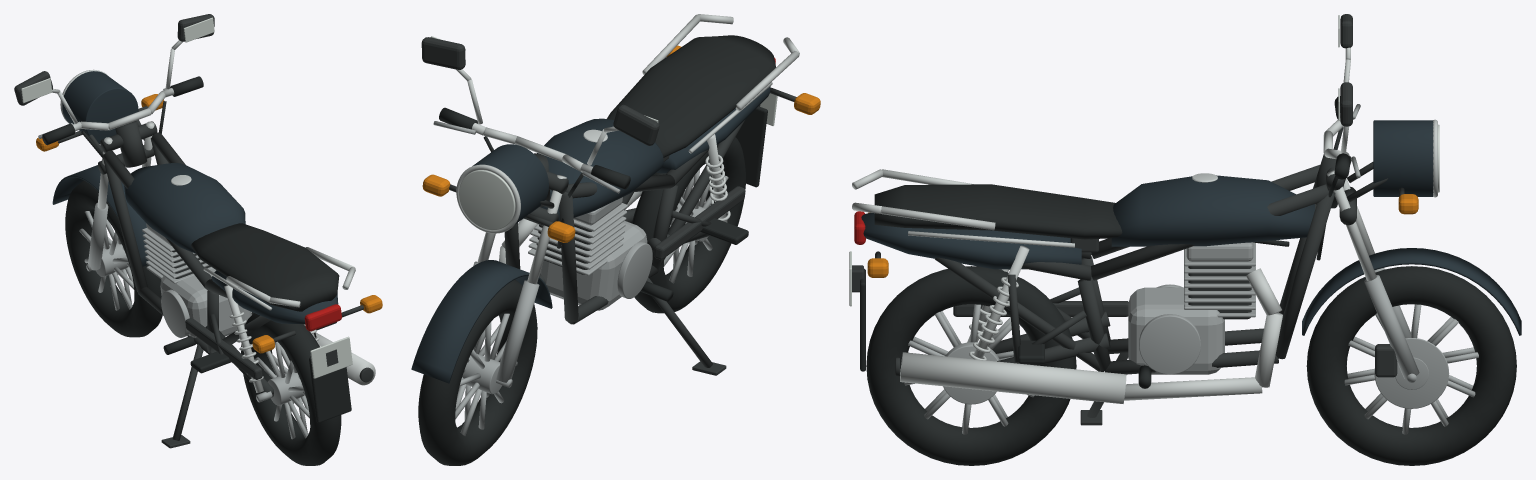
Rendered from central-avenue-commuter-motorcycle.glb.
The picture shows the model from 3 angles, left to right: view 1: azimuth 30°, elevation 25°; view 2: azimuth 150°, elevation 25°; view 3: azimuth 270°, elevation 25°; orthographic projection. The views are drawn at different scales.
Parts seen in each view (by area): view 1: Motorcycle tyres grips and saddle, Motorcycle dark blue black enamel, Motorcycle black frame steel, Motorcycle engine and wheel alloy, Motorcycle fork and bright hardware, Motorcycle headlamp and mirrors, Motorcycle amber indicator lens, Motorcycle red tail lens; view 2: Motorcycle tyres grips and saddle, Motorcycle dark blue black enamel, Motorcycle engine and wheel alloy, Motorcycle black frame steel, Motorcycle fork and bright hardware, Motorcycle headlamp and mirrors, Motorcycle amber indicator lens; view 3: Motorcycle tyres grips and saddle, Motorcycle dark blue black enamel, Motorcycle black frame steel, Motorcycle engine and wheel alloy, Motorcycle fork and bright hardware, Motorcycle amber indicator lens.
Part boxes in pixels (x1=…): Motorcycle tyres grips and saddle: x1=42, y1=76, x2=351, y2=465; Motorcycle dark blue black enamel: x1=52, y1=71, x2=338, y2=323; Motorcycle black frame steel: x1=14, y1=14, x2=373, y2=448; Motorcycle engine and wheel alloy: x1=38, y1=78, x2=309, y2=439; Motorcycle fork and bright hardware: x1=52, y1=40, x2=375, y2=392; Motorcycle headlamp and mirrors: x1=21, y1=17, x2=352, y2=378; Motorcycle amber indicator lens: x1=36, y1=94, x2=382, y2=353; Motorcycle red tail lens: x1=304, y1=304, x2=341, y2=331; Motorcycle tyres grips and saddle: x1=418, y1=35, x2=775, y2=465; Motorcycle dark blue black enamel: x1=411, y1=86, x2=770, y2=383; Motorcycle engine and wheel alloy: x1=433, y1=121, x2=728, y2=435; Motorcycle black frame steel: x1=421, y1=37, x2=796, y2=375; Motorcycle fork and bright hardware: x1=456, y1=14, x2=799, y2=284; Motorcycle headlamp and mirrors: x1=430, y1=36, x2=777, y2=230; Motorcycle amber indicator lens: x1=422, y1=45, x2=820, y2=242; Motorcycle tyres grips and saddle: x1=860, y1=96, x2=1516, y2=465; Motorcycle dark blue black enamel: x1=861, y1=120, x2=1521, y2=335; Motorcycle black frame steel: x1=852, y1=14, x2=1404, y2=425; Motorcycle engine and wheel alloy: x1=904, y1=104, x2=1478, y2=434; Motorcycle fork and bright hardware: x1=852, y1=47, x2=1437, y2=403; Motorcycle amber indicator lens: x1=867, y1=194, x2=1418, y2=277.
Size of the model in its own units: 0.8601 by 1.33 by 2.01.
